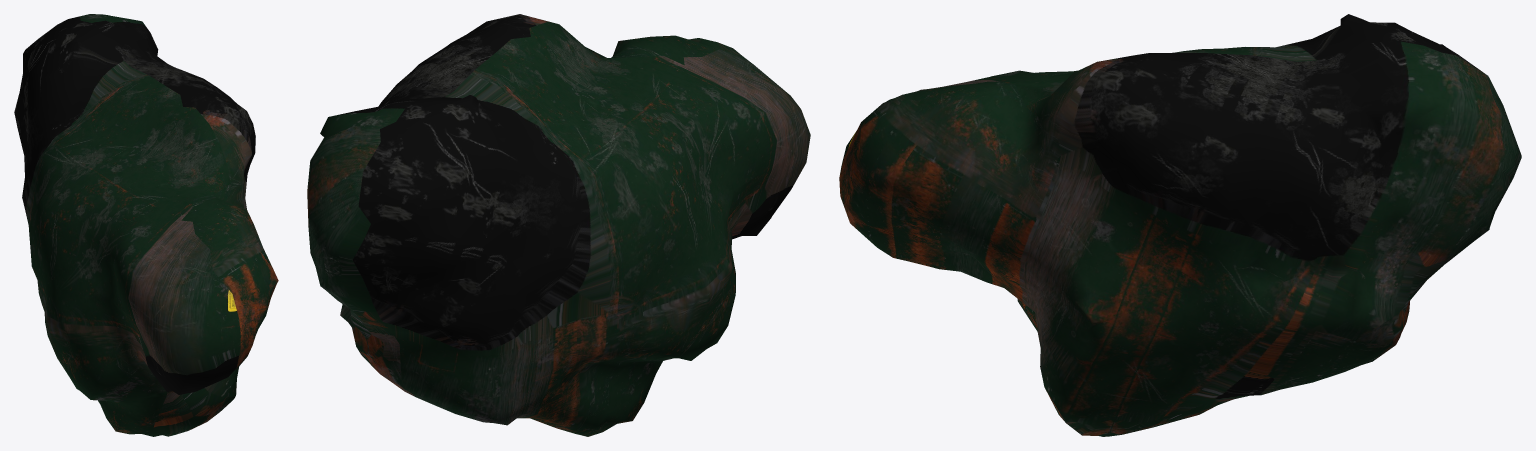
The picture shows the model from 3 angles, left to right: view 1: azimuth 30°, elevation 25°; view 2: azimuth 150°, elevation 25°; view 3: azimuth 270°, elevation 25°; orthographic projection. The views are drawn at different scales.
Parts seen in each view (by area): view 1: rock_low; view 2: rock_low; view 3: rock_low.
Part boxes in pixels (<box>): rock_low: <box>14,14,278,436</box>; rock_low: <box>307,14,810,436</box>; rock_low: <box>839,14,1521,436</box>.
Bounding box in the file's own units: 0.9838 × 1.36 × 2.
